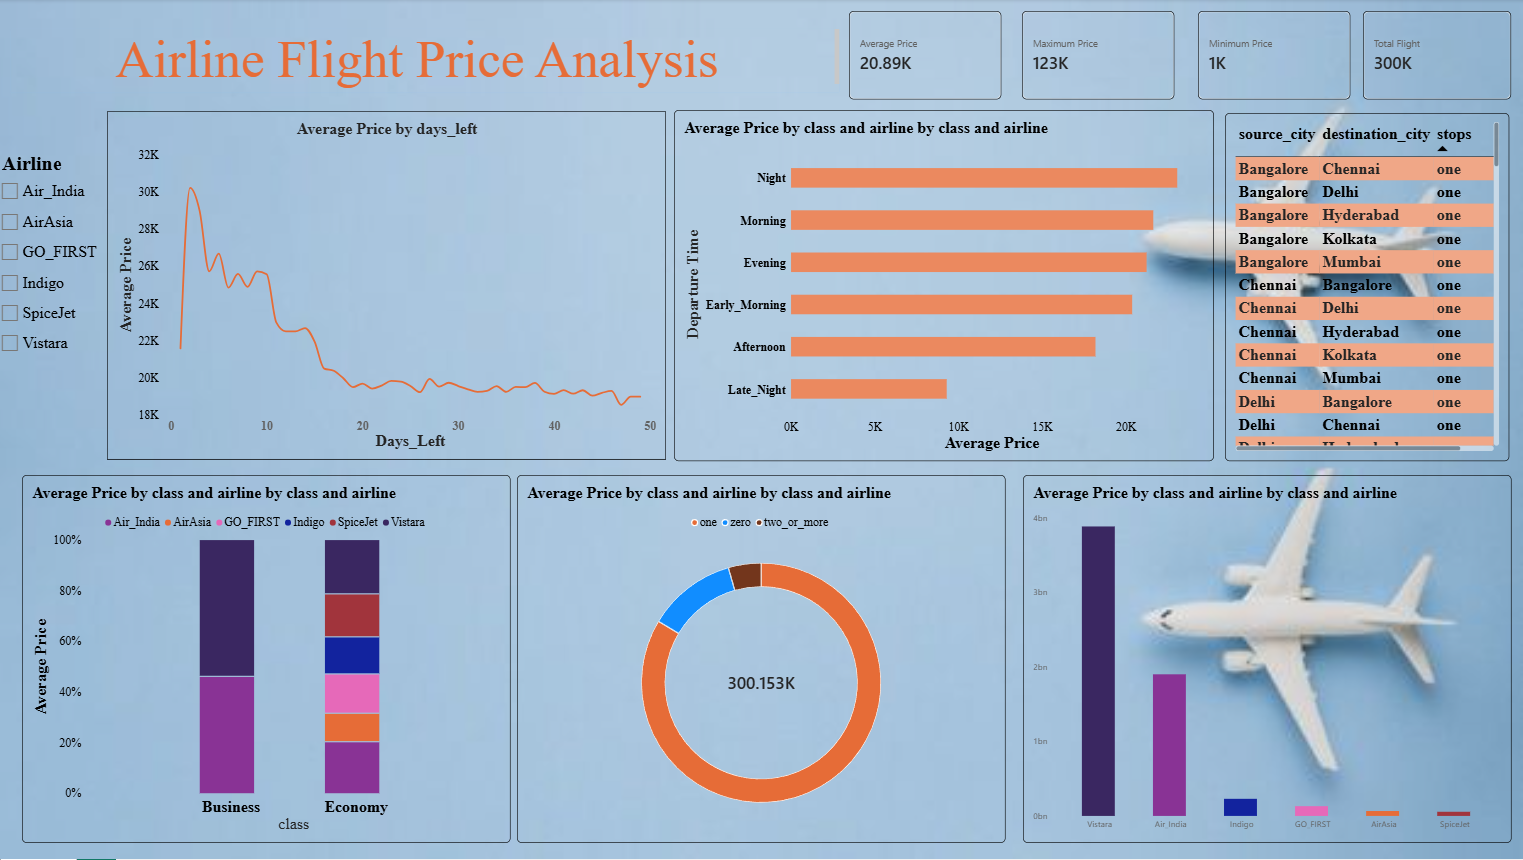

This screenshot's page, from the dashboard's own definition file:
{"tool":"powerbi","page":{"name":"Page 1","canvas":[2560,1440],"ordinal":0},"visuals":[{"type":"cardVisual","fields":{"Data":["airlines_flights_data.Average Price"]},"box":[1426.6,20.7,255.3,148.4],"z":0},{"type":"cardVisual","fields":{"Data":["airlines_flights_data.Minimum Price"]},"box":[2011.4,20.7,255.3,148.4],"z":1000},{"type":"cardVisual","fields":{"Data":["airlines_flights_data.Maximum Price"]},"box":[1716.4,20.7,255.3,148.4],"z":2000},{"type":"cardVisual","fields":{"Data":["airlines_flights_data.Total Flight"]},"box":[2287.4,20.7,248.4,148.4],"z":3000},{"type":"lineChart","title":"Average Price by days_left","fields":{"Y":["airlines_flights_data.Average Price"],"Category":["airlines_flights_data.days_left"]},"box":[184.2,187.5,936,584.4],"z":4000},{"type":"slicer","fields":{"Values":["airlines_flights_data.airline"]},"box":[0,256.2,184.2,376.7],"z":5000},{"type":"tableEx","fields":{"Values":["airlines_flights_data.source_city","airlines_flights_data.destination_city","airlines_flights_data.stops"]},"box":[2056.3,191.5,476.1,583.1],"z":6000},{"type":"hundredPercentStackedColumnChart","title":"Average Price by class and airline by class and airline","fields":{"Y":["airlines_flights_data.Average Price"],"Category":["airlines_flights_data.class"],"Series":["airlines_flights_data.airline"]},"box":[41.4,797,817.7,615.8],"z":7000},{"type":"clusteredBarChart","title":"Average Price by class and airline by class and airline","fields":{"Category":["airlines_flights_data.departure_time"],"Y":["airlines_flights_data.Average Price"]},"box":[1133.4,186.3,903.9,588.2],"z":8000},{"type":"donutChart","title":"Average Price by class and airline by class and airline","fields":{"Category":["airlines_flights_data.stops"],"Y":["CountNonNull(airlines_flights_data.flight)"]},"box":[871.2,797,817.7,615.8],"z":9000},{"type":"columnChart","title":"Average Price by class and airline by class and airline","fields":{"Y":["Sum(airlines_flights_data.price)"],"Category":["airlines_flights_data.airline"]},"box":[1718.2,797,817.7,615.8],"z":10000},{"type":"textbox","box":[0,19,160,150],"z":11000},{"type":"textbox","box":[24.2,50,1387,105.2],"z":12000}]}

Visuals, with their boxes in screenshot pixels (x1, y1, x2, y2), scaled from the page's 2560x1440 canvas onto the 1523x860 screenshot:
cardVisual - airlines_flights_data.Average Price: [x1=849, y1=12, x2=1001, y2=101]
cardVisual - airlines_flights_data.Minimum Price: [x1=1197, y1=12, x2=1349, y2=101]
cardVisual - airlines_flights_data.Maximum Price: [x1=1021, y1=12, x2=1173, y2=101]
cardVisual - airlines_flights_data.Total Flight: [x1=1361, y1=12, x2=1509, y2=101]
"Average Price by days_left" lineChart: [x1=110, y1=112, x2=666, y2=461]
slicer - airlines_flights_data.airline: [x1=0, y1=153, x2=110, y2=378]
tableEx - airlines_flights_data.source_city x airlines_flights_data.destination_city: [x1=1223, y1=114, x2=1507, y2=463]
"Average Price by class and airline by class and airline" hundredPercentStackedColumnChart: [x1=25, y1=476, x2=511, y2=844]
"Average Price by class and airline by class and airline" clusteredBarChart: [x1=674, y1=111, x2=1212, y2=463]
"Average Price by class and airline by class and airline" donutChart: [x1=518, y1=476, x2=1005, y2=844]
"Average Price by class and airline by class and airline" columnChart: [x1=1022, y1=476, x2=1509, y2=844]
textbox: [x1=0, y1=11, x2=95, y2=101]
textbox: [x1=14, y1=30, x2=840, y2=93]
